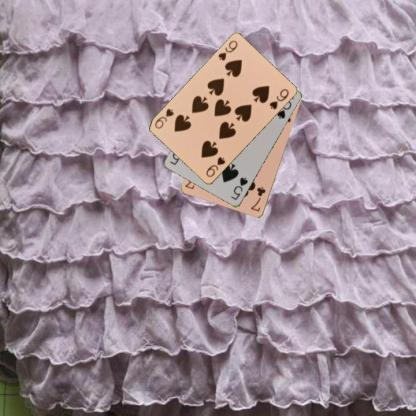5s: (228, 174, 249, 202)
7c: (248, 184, 267, 213)
9s: (204, 154, 226, 179), (216, 38, 238, 62)
